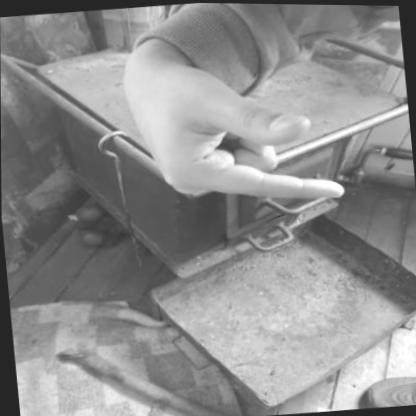G: (98, 29, 366, 246)
